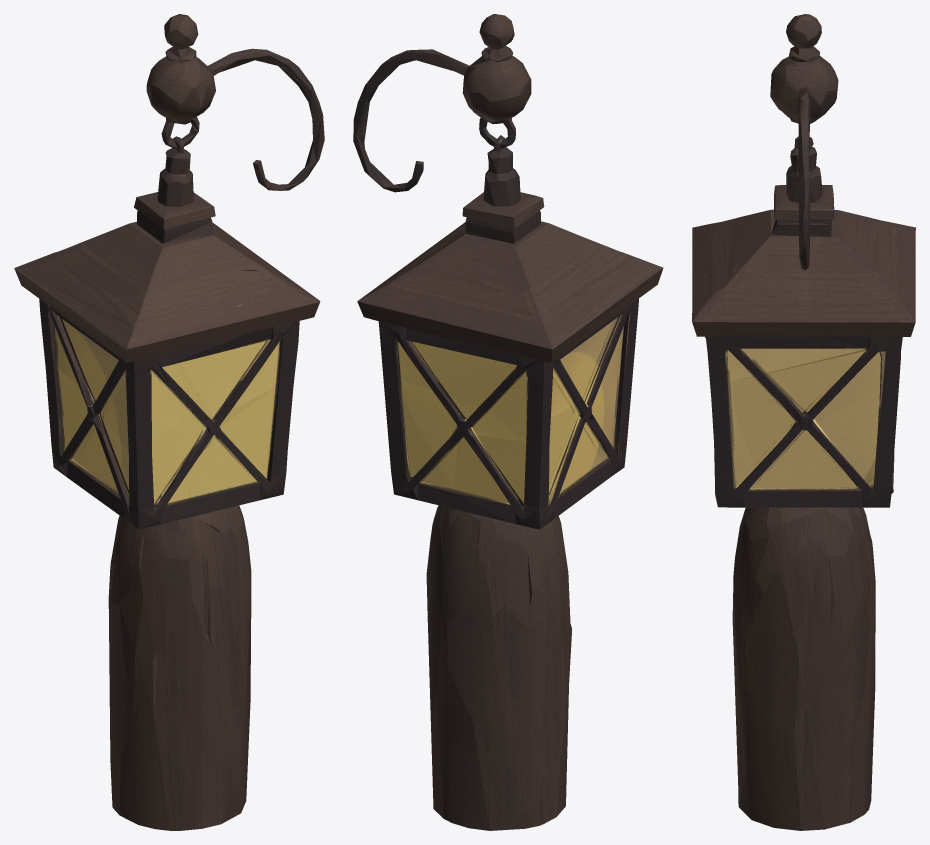
File: post_lantern.glb
The picture shows the model from 3 angles, left to right: view 1: azimuth 30°, elevation 25°; view 2: azimuth 150°, elevation 25°; view 3: azimuth 270°, elevation 25°; orthographic projection.
Size of the model in its own units: 0.6425 by 1.9 by 0.4891.
1 material, 1 textured.
